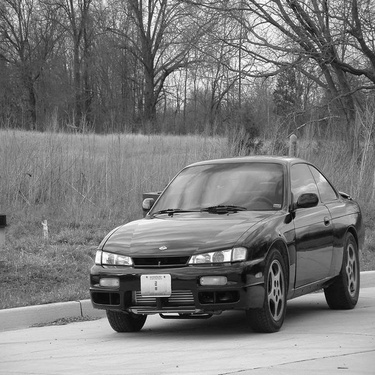car: (75, 144, 367, 337)
